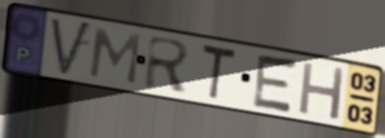E: (249, 52, 302, 116)
H: (296, 59, 348, 123)
M: (86, 25, 144, 88)
R: (142, 33, 193, 95)
T: (199, 41, 239, 104)
V: (48, 15, 95, 80)
